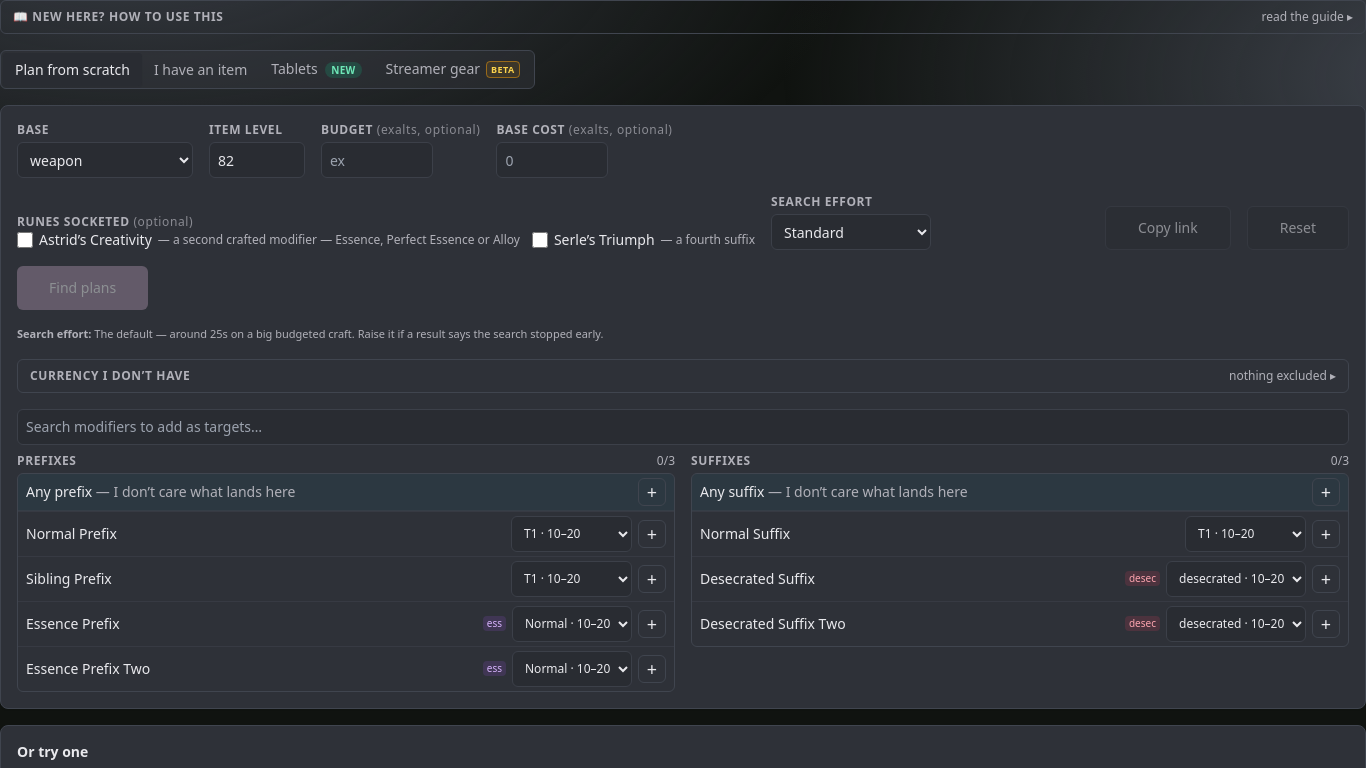
Test: EngineLab — target picker rules › at most one essence-only mod: a second essence disables in the picker
Expected: the field with placeholder "Search modifiers to add as targets…" is shown, [17,409,1349,445]
Click the 7th button "+" at (652,624), box [638,610,666,638]
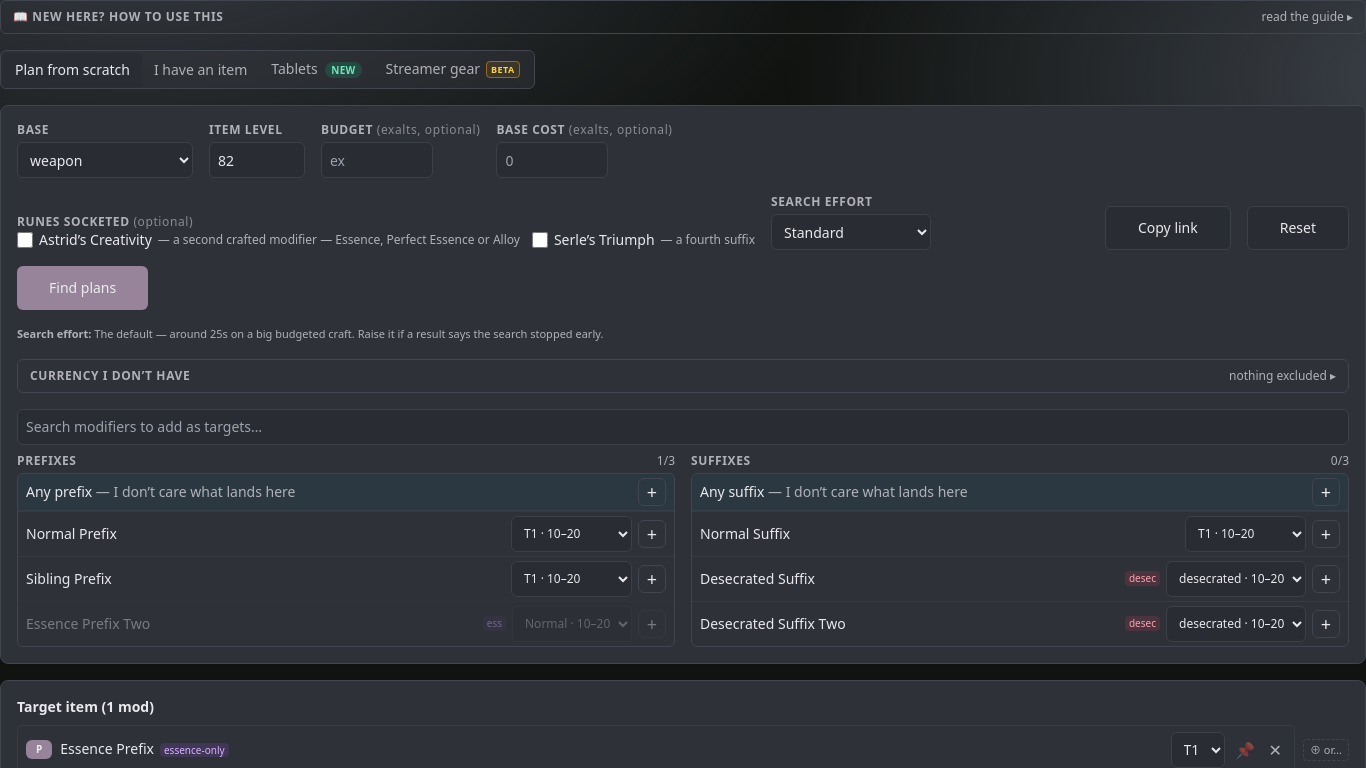
Expected: the button "+" in the row of "Essence Prefix Two" is disabled, [638,610,666,638]
